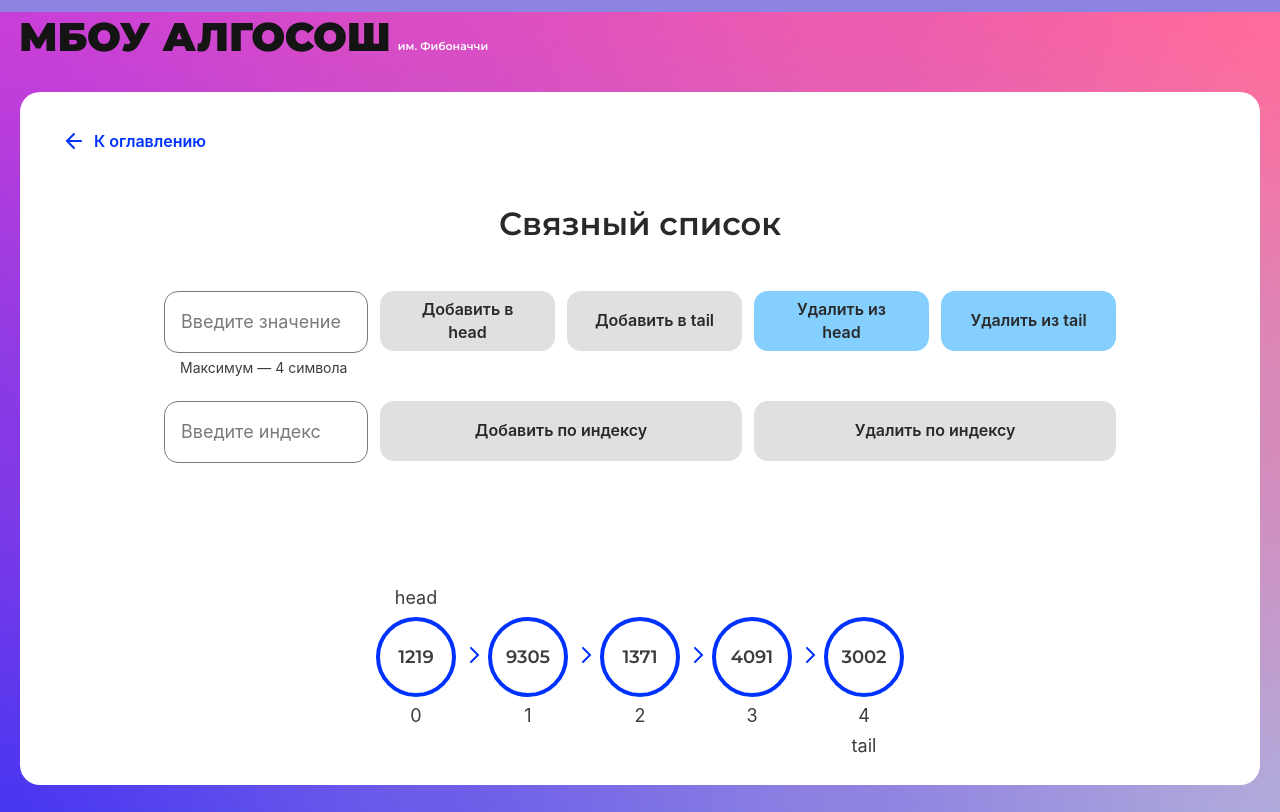
List Page › should add an element by index
Type "111" into the field with test id "main-input" at (266, 322), box [164,291,368,353]
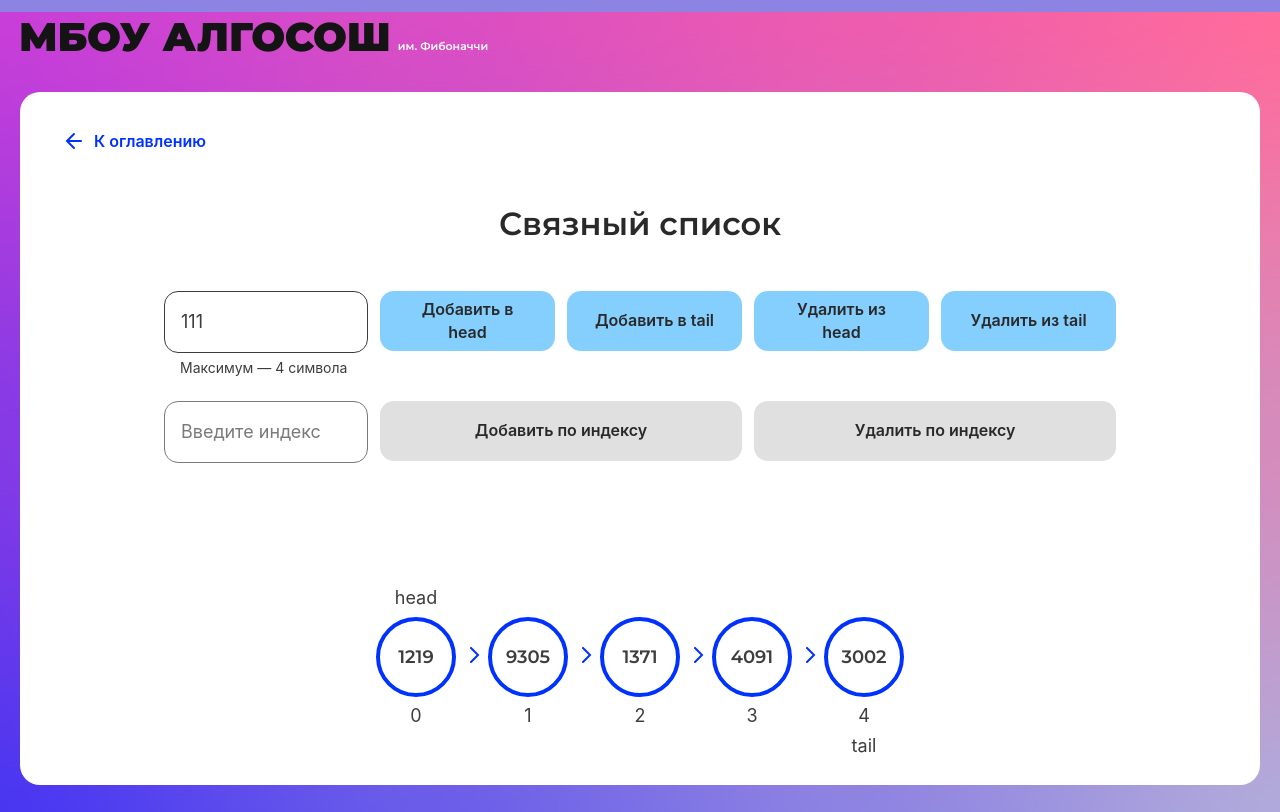
Type "3" into the number field with test id "index-input" at (266, 432), box [164,401,368,463]
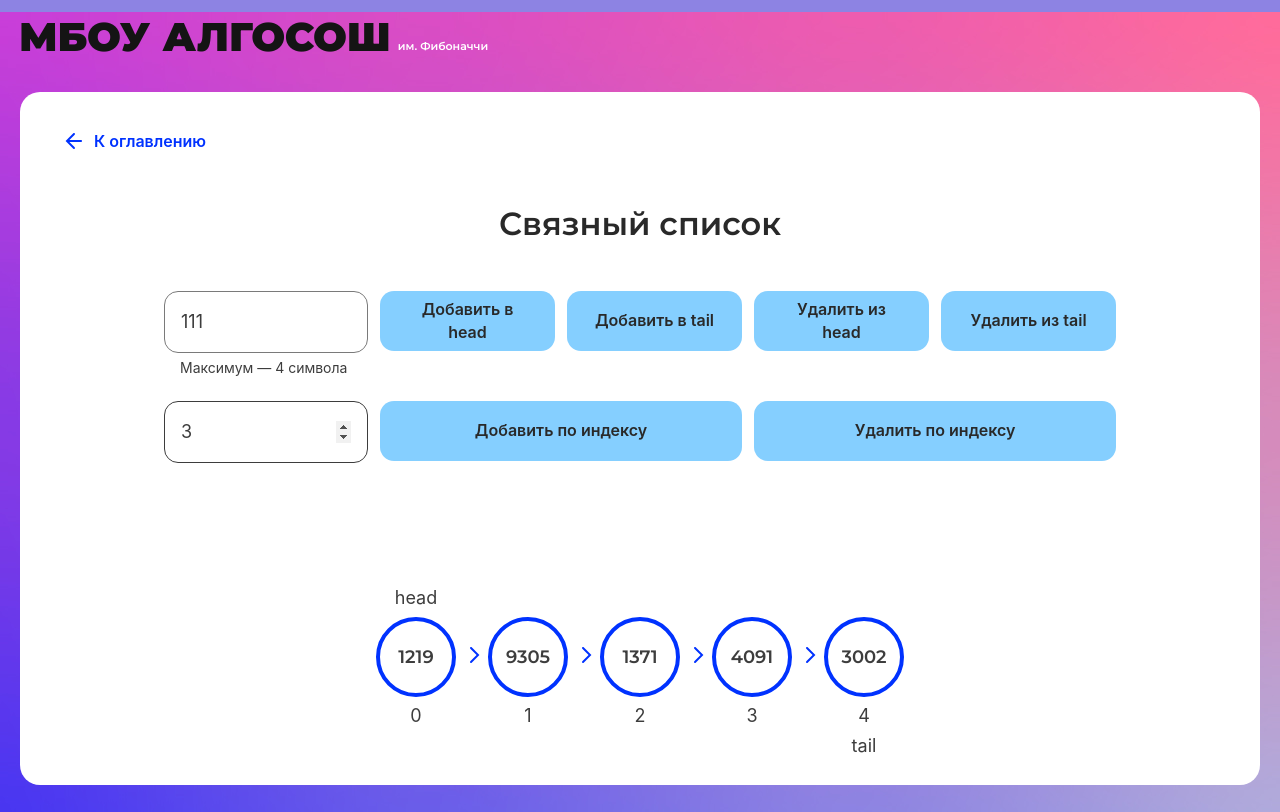
Click the button with test id "btn-addByIndex" at (561, 431), box [380,401,742,461]
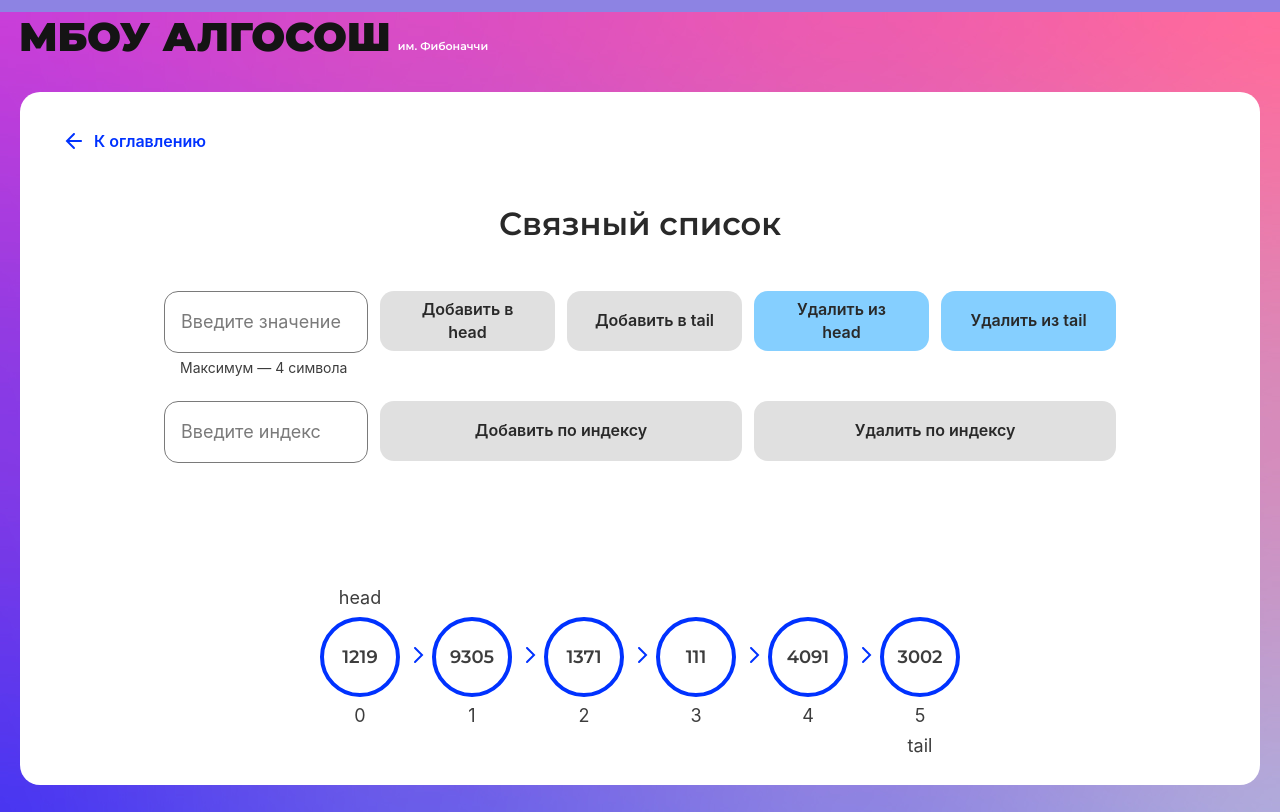
Expected: the element with test id "circle" reads "111", [656,617,736,697]
